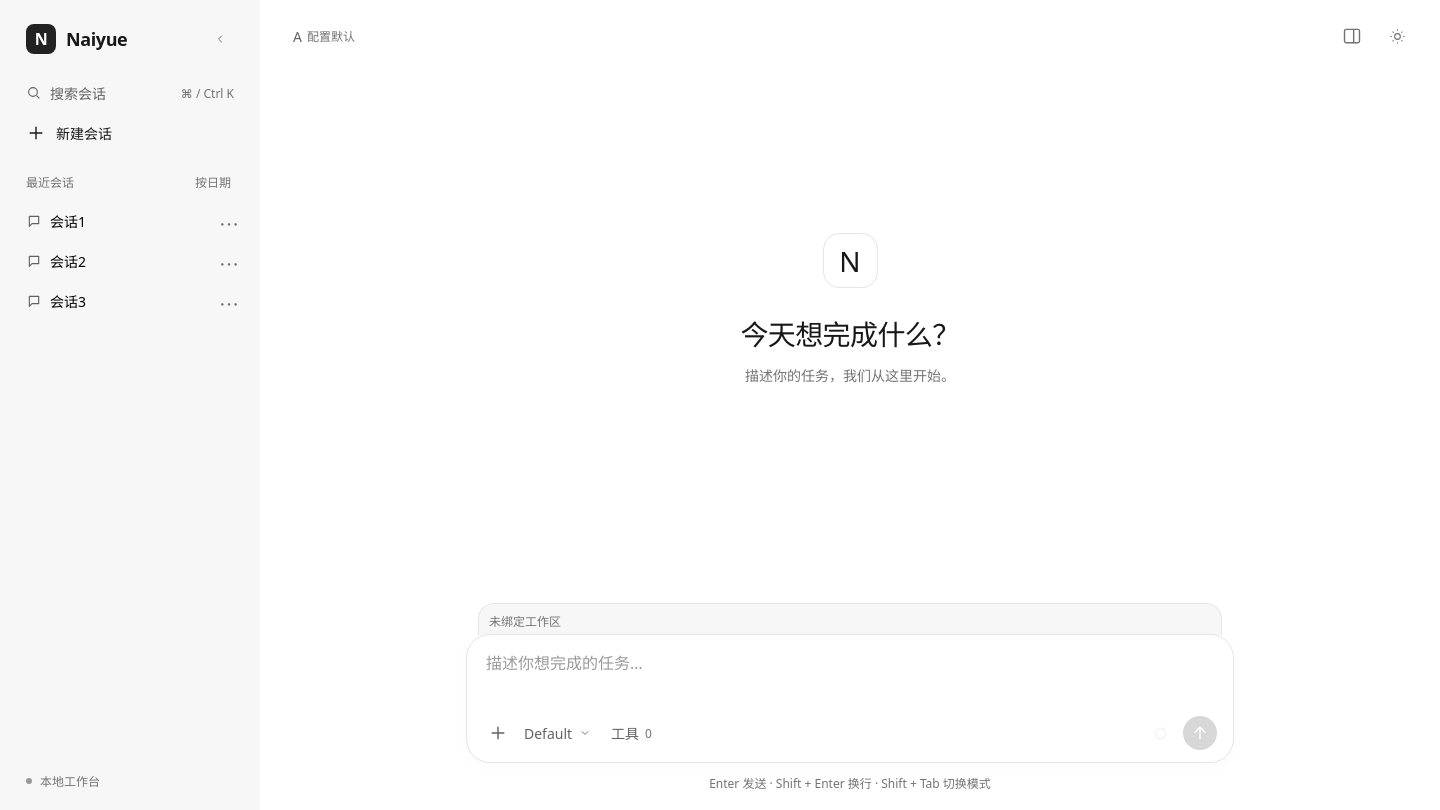
Test: pins and unpins using the ellipsis menu and keeps failures visible
Click the button named "会话2的更多操作".
click(227, 262)  # box [213, 248, 241, 276]
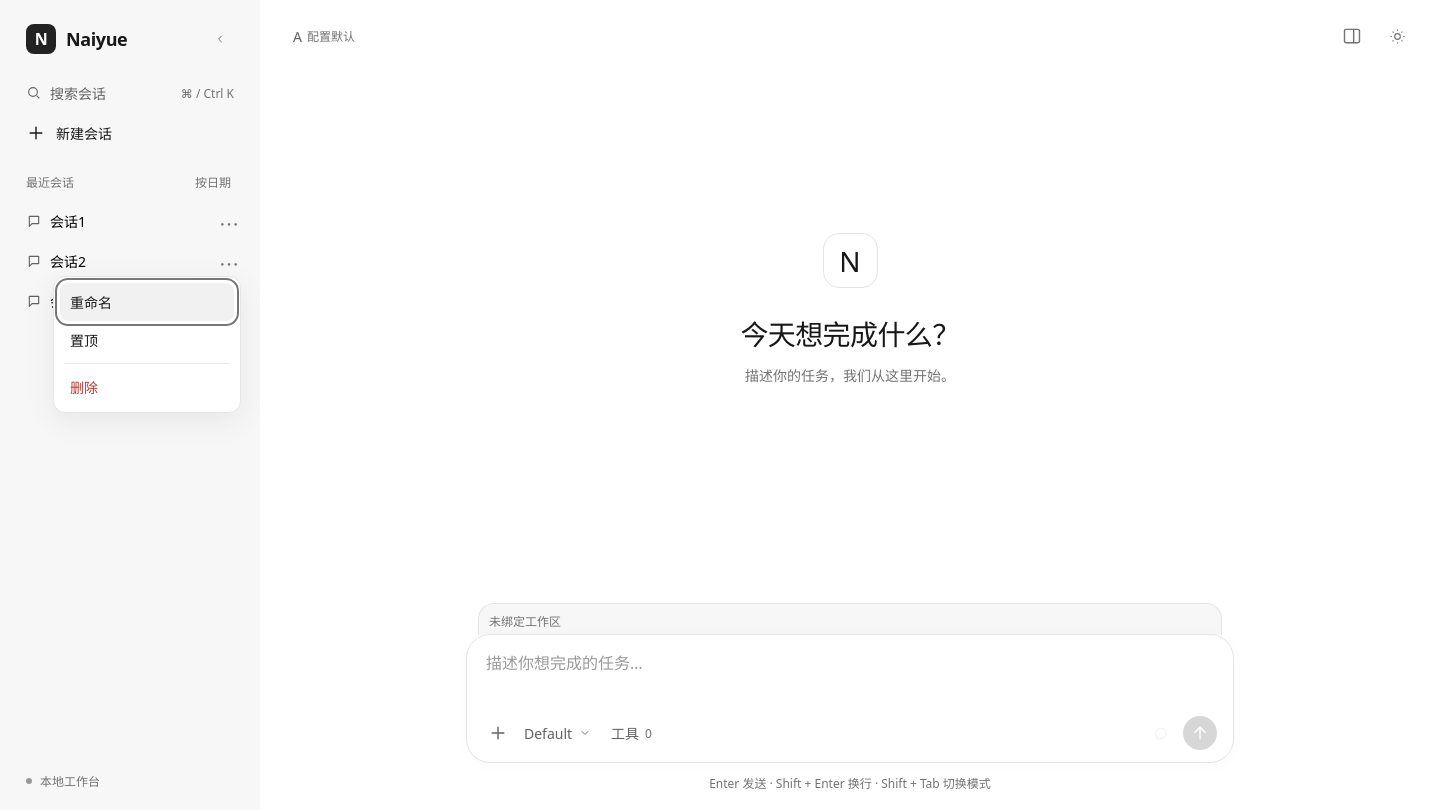
Click the menu item "置顶".
click(147, 340)  # box [60, 321, 234, 359]
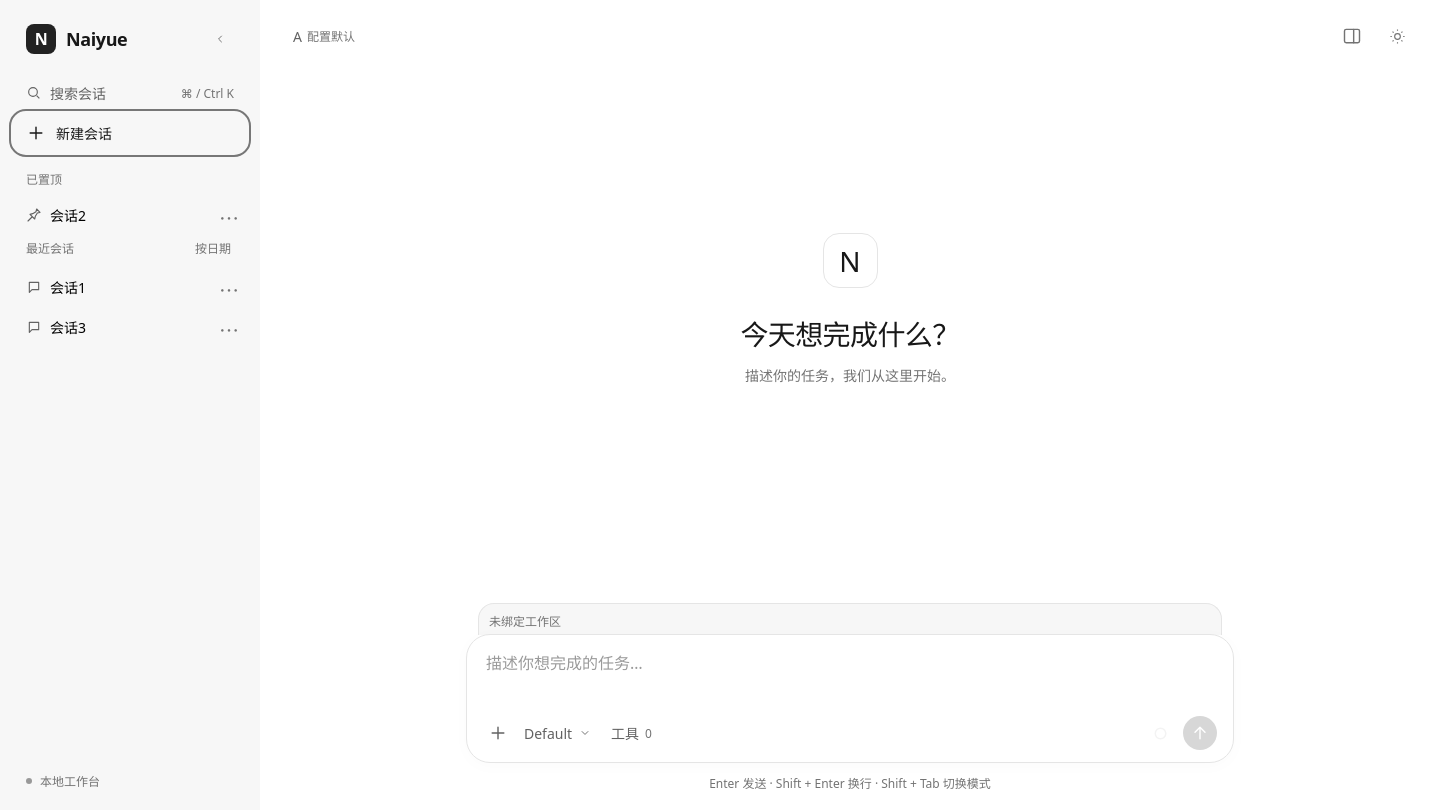
Expected: the button with aria-label "会话2 A" is shown, [14, 196, 246, 234]
Click the button named "会话2的更多操作".
click(227, 216)  # box [213, 202, 241, 230]
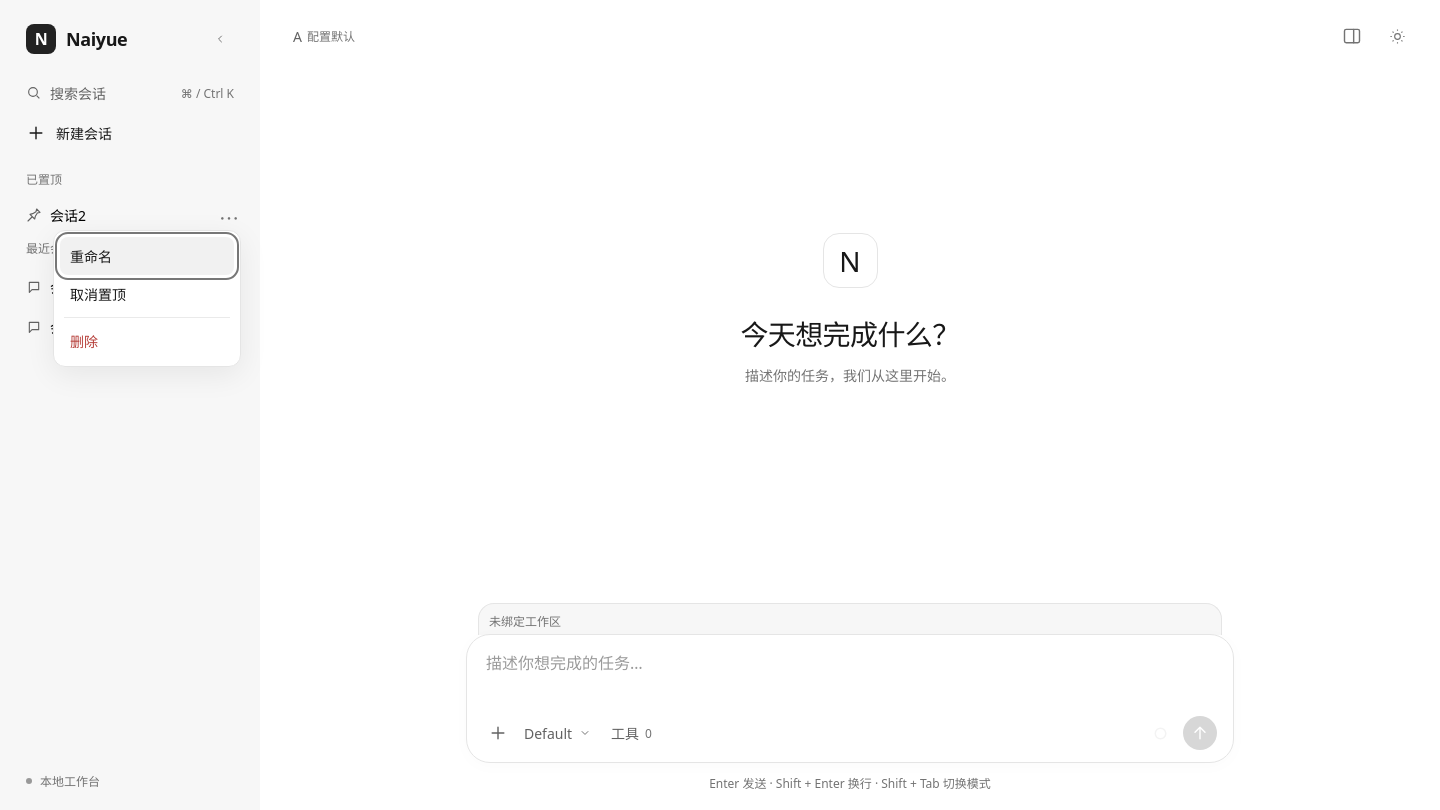
Click the menu item "取消置顶".
click(147, 294)  # box [60, 275, 234, 313]
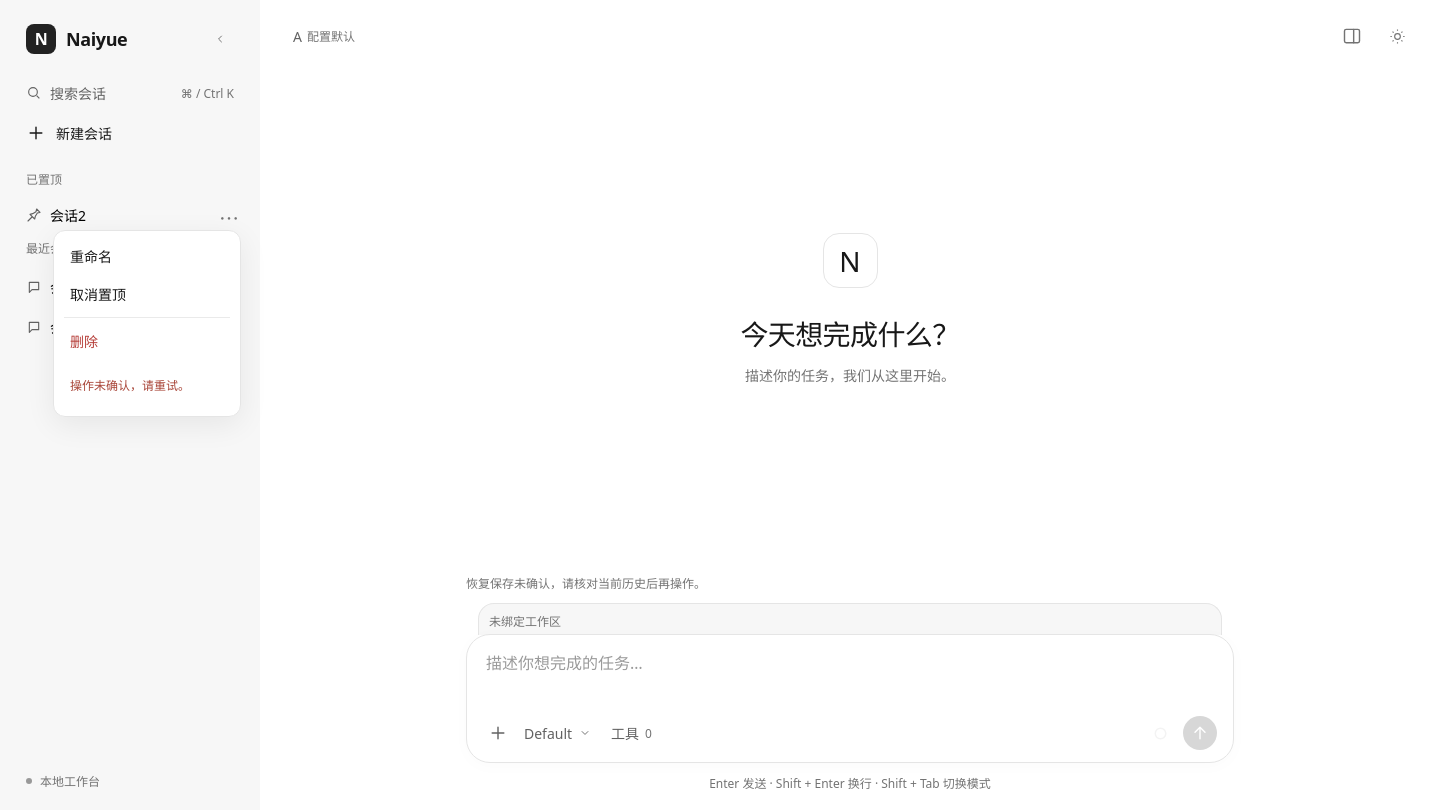
Expected: the element named "已置顶会话" is shown, [14, 170, 246, 234]
Expected: the text "操作未确认，请重试。" is shown, [70, 377, 190, 394]
